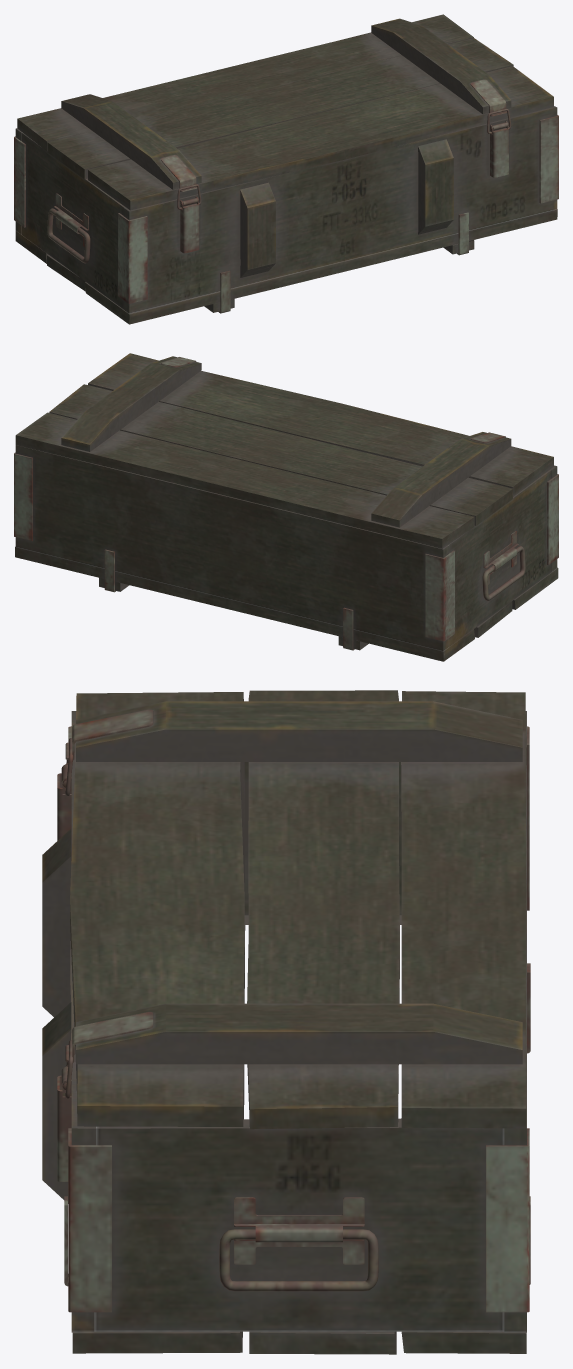
Rendered from weapon_box.glb.
3 renders of one model, top to bottom at view 1: azimuth 30°, elevation 25°; view 2: azimuth 150°, elevation 25°; view 3: azimuth 270°, elevation 25°, orthographic. The views are drawn at different scales.
Bounding box in the file's own units: 1.35 × 0.4388 × 0.6503.
2 materials, 2 textured.
